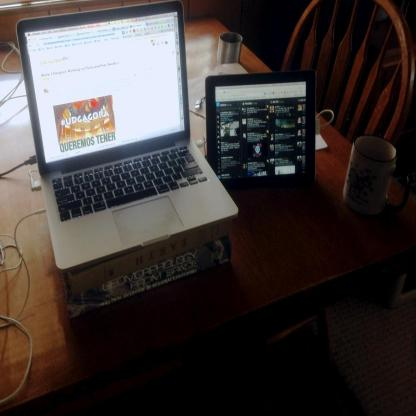board: (16, 0, 240, 270)
